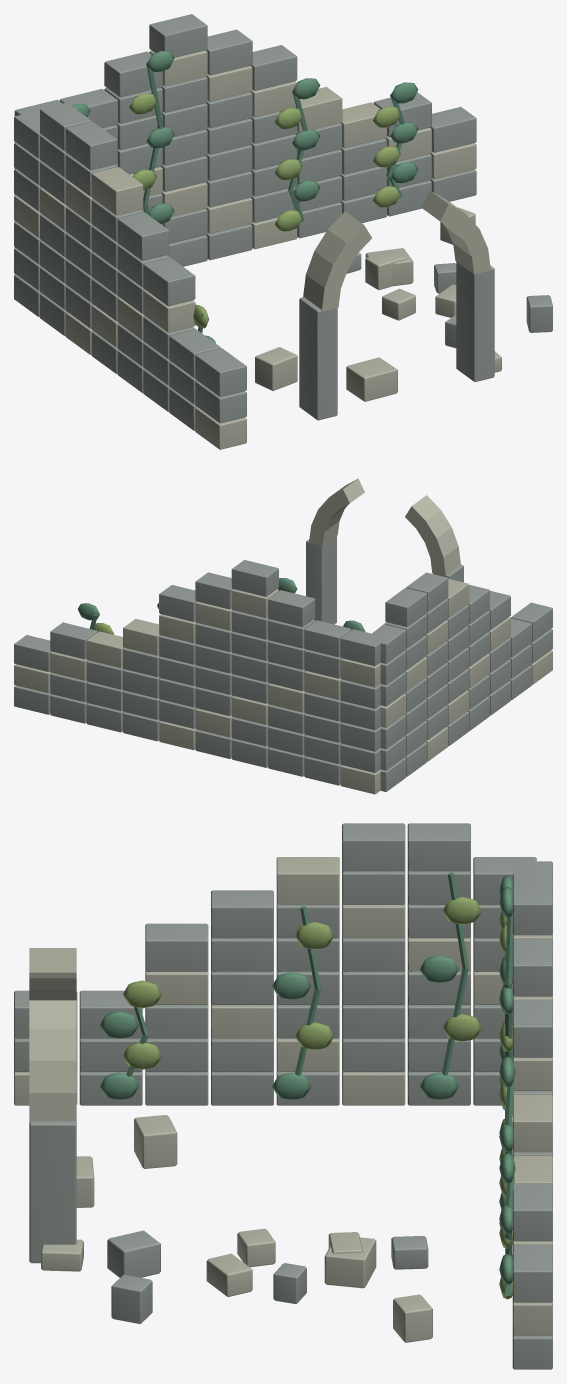
The model's file is ruins.glb.
The picture shows the model from 3 angles, top to bottom: view 1: azimuth 30°, elevation 25°; view 2: azimuth 150°, elevation 25°; view 3: azimuth 270°, elevation 25°; orthographic projection. The views are drawn at different scales.
Parts seen in each view (by area): view 1: Ruins_arch_pier, Ruins_arch_pier.001, Ruins_broken_north_wall.030, Ruins_broken_west_wall.010, Ruins_broken_west_wall.031, Ruins_broken_west_wall.016, Ruins_broken_west_wall.023, Ruins_broken_west_wall.002, Ruins_broken_north_wall.021, Ruins_fallen_rubble.004, Ruins_broken_north_wall.038, Ruins_broken_north_wall.045 (+98 smaller); view 2: Ruins_arch_pier.001, Ruins_broken_north_wall.021, Ruins_broken_north_wall.030, Ruins_broken_west_wall.039, Ruins_broken_north_wall.006, Ruins_broken_north_wall.058, Ruins_broken_north_wall.013, Ruins_broken_north_wall.061, Ruins_broken_north_wall.045, Ruins_broken_north_wall.054, Ruins_broken_north_wall.038, Ruins_broken_north_wall.050 (+104 smaller); view 3: Ruins_arch_pier.001, Ruins_broken_west_wall.010, Ruins_broken_west_wall.031, Ruins_broken_west_wall.039, Ruins_broken_west_wall.016, Ruins_broken_west_wall.023, Ruins_broken_north_wall.030, Ruins_broken_north_wall.050, Ruins_broken_north_wall.058, Ruins_broken_north_wall.038, Ruins_broken_north_wall.045, Ruins_broken_north_wall.061 (+77 smaller).
Part boxes in pixels (box(x1,y1,x2,y2)): Ruins_arch_pier: box(299, 297, 337, 420); Ruins_arch_pier.001: box(456, 262, 494, 381); Ruins_broken_north_wall.030: box(149, 14, 207, 57); Ruins_broken_west_wall.010: box(143, 257, 195, 306); Ruins_broken_west_wall.031: box(65, 121, 117, 170); Ruins_broken_west_wall.016: box(117, 212, 169, 260); Ruins_broken_west_wall.023: box(91, 167, 143, 215); Ruins_broken_west_wall.002: box(195, 348, 246, 396); Ruins_broken_north_wall.021: box(104, 51, 162, 97); Ruins_fallen_rubble.004: box(346, 357, 397, 401); Ruins_broken_north_wall.038: box(206, 29, 252, 75); Ruins_broken_north_wall.045: box(250, 45, 297, 90); Ruins_arch_pier.001: box(306, 536, 336, 624); Ruins_broken_north_wall.021: box(268, 590, 315, 627); Ruins_broken_north_wall.030: box(231, 560, 278, 596); Ruins_broken_west_wall.039: box(385, 588, 427, 627); Ruins_broken_north_wall.006: box(340, 629, 385, 666); Ruins_broken_north_wall.058: box(50, 622, 97, 659); Ruins_broken_north_wall.013: box(304, 620, 351, 657); Ruins_broken_north_wall.061: box(14, 635, 51, 671); Ruins_broken_north_wall.045: box(159, 585, 196, 621); Ruins_broken_north_wall.054: box(86, 631, 124, 668); Ruins_broken_north_wall.038: box(195, 572, 232, 609); Ruins_broken_north_wall.050: box(123, 618, 160, 655); Ruins_arch_pier.001: box(29, 1121, 76, 1263); Ruins_broken_west_wall.010: box(145, 923, 208, 971); Ruins_broken_west_wall.031: box(342, 823, 405, 871); Ruins_broken_west_wall.039: box(407, 823, 470, 871); Ruins_broken_west_wall.016: box(211, 890, 273, 938); Ruins_broken_west_wall.023: box(276, 857, 339, 904); Ruins_broken_north_wall.030: box(512, 877, 552, 935); Ruins_broken_north_wall.050: box(512, 1094, 552, 1152); Ruins_broken_north_wall.058: box(512, 1183, 552, 1241); Ruins_broken_north_wall.038: box(512, 939, 552, 996); Ruins_broken_north_wall.045: box(512, 1000, 552, 1057); Ruins_broken_north_wall.061: box(512, 1245, 552, 1302).
Bounding box in the file's own units: 8.11 × 4.04 × 6.57.
